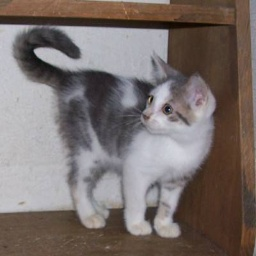cat: (12, 25, 217, 236)
